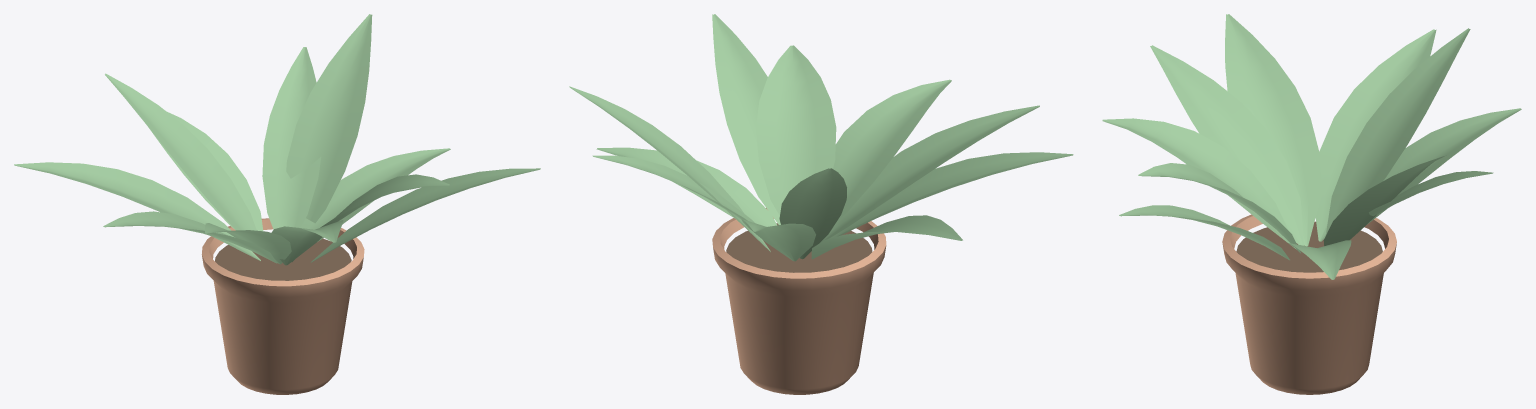
File: plant.glb
3 views of the same model, side by side, from view 1: azimuth 30°, elevation 25°; view 2: azimuth 150°, elevation 25°; view 3: azimuth 270°, elevation 25° (orthographic). The views are drawn at different scales.
Parts seen in each view (by area): view 1: plant; view 2: plant; view 3: plant.
Part boxes in pixels (x1=…): plant: x1=14, y1=14, x2=540, y2=394; plant: x1=569, y1=14, x2=1073, y2=394; plant: x1=1102, y1=14, x2=1521, y2=394.
Bounding box in the file's own units: 1.23 × 0.8241 × 1.06.
